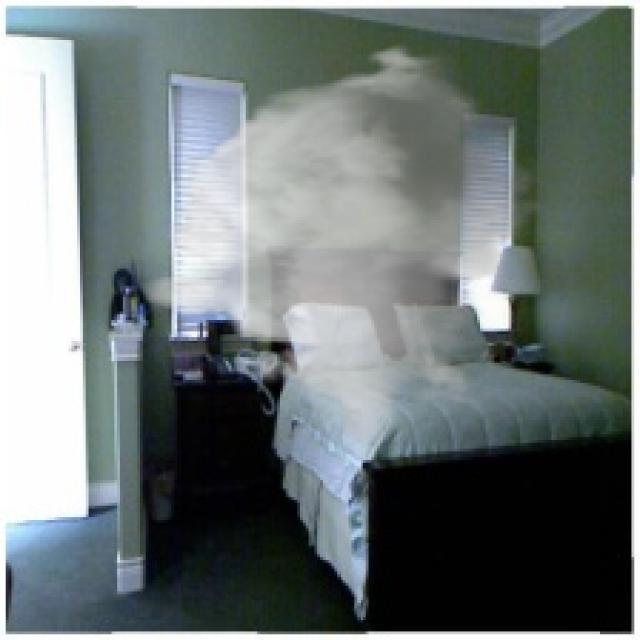Smoke: (137, 43, 549, 446)
